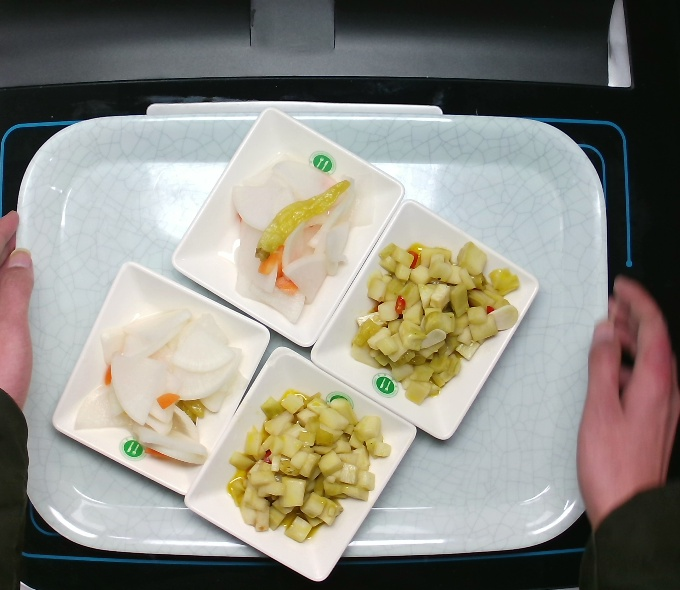wcq-LuLuoBo: (77, 308, 250, 466), (221, 150, 377, 321)
wcq-TangCuOu: (355, 243, 534, 406), (230, 389, 398, 547)
